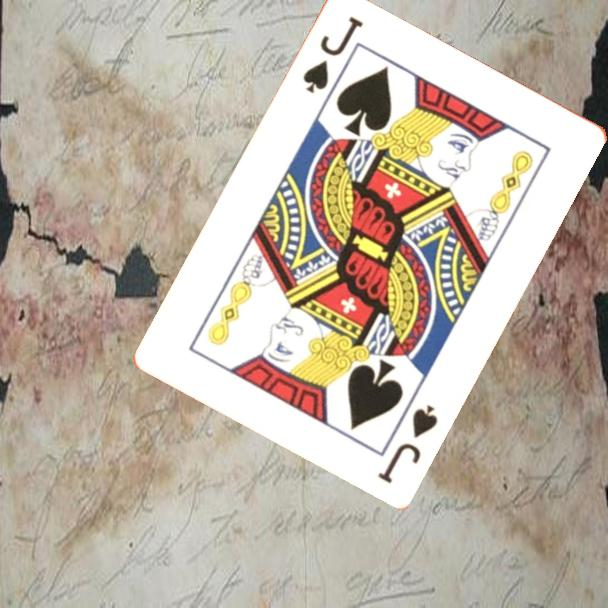s11: (374, 400, 441, 486), (298, 12, 366, 96)
